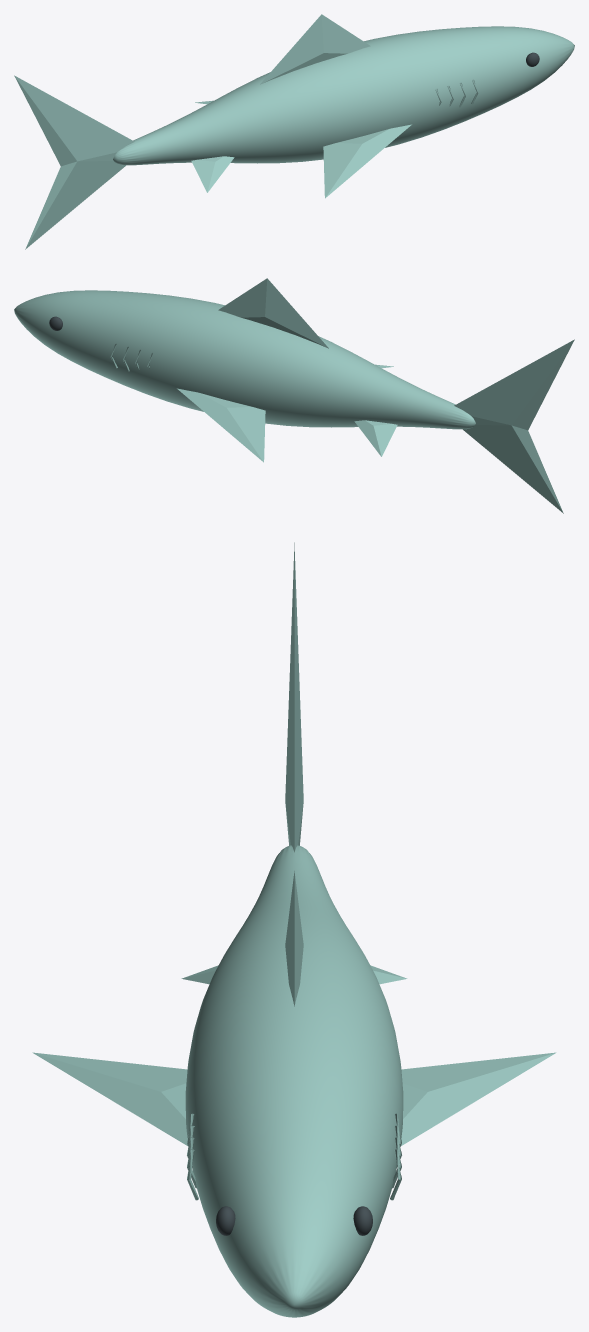
3 views of the same model, one above another, from view 1: azimuth 30°, elevation 25°; view 2: azimuth 150°, elevation 25°; view 3: azimuth 270°, elevation 25° (orthographic). The views are drawn at different scales.
Visible parts, largest first — view 1: Body, Tail, Dorsal, Pectoral, Pelvic; view 2: Body, Tail, Dorsal, Pectoral.001, Pelvic.001; view 3: Body, Pectoral.001, Pectoral, Tail, Dorsal.
Boxes of the visible parts, x1,y1,x2,y2 form: Body: (113, 26, 574, 165); Tail: (14, 75, 134, 249); Dorsal: (260, 14, 370, 84); Pectoral: (323, 124, 411, 198); Pelvic: (191, 156, 234, 192); Body: (14, 290, 475, 429); Tail: (454, 339, 574, 513); Dorsal: (218, 278, 328, 348); Pectoral.001: (177, 388, 265, 462); Pelvic.001: (354, 420, 397, 456); Body: (185, 845, 403, 1317); Pectoral.001: (401, 1052, 556, 1145); Pectoral: (32, 1052, 187, 1145); Tail: (285, 542, 303, 852); Dorsal: (285, 871, 303, 1006).
Bounding box in the file's own units: 252 × 76 × 102.
